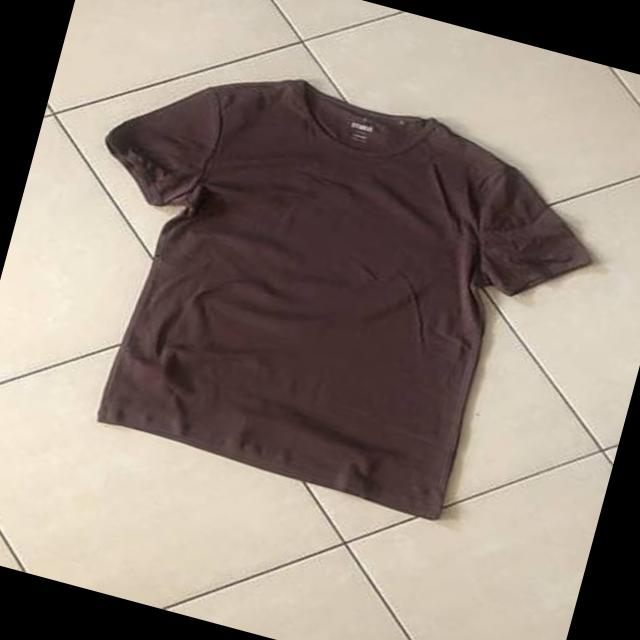T_SHIRT: (18, 18, 636, 553)
